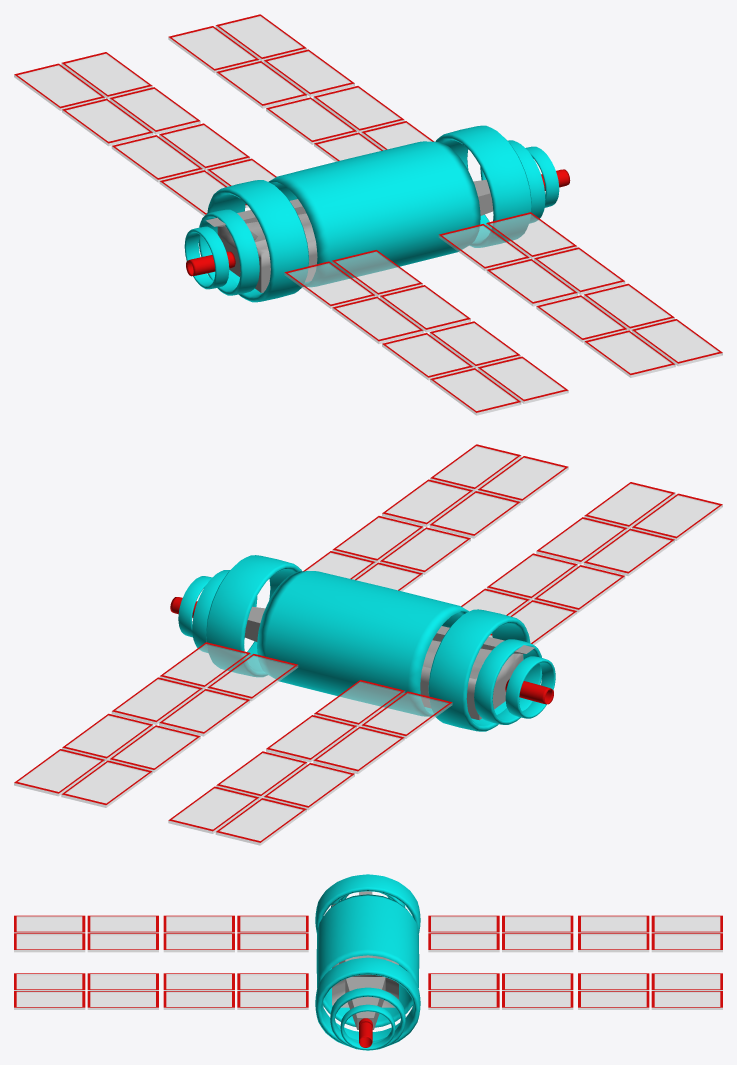
File: Spaceship1_Combined.fbx
3 renders of one model, top to bottom at view 1: azimuth 30°, elevation 25°; view 2: azimuth 150°, elevation 25°; view 3: azimuth 270°, elevation 25°, orthographic. The views are drawn at different scales.
Parts seen in each view (by area): view 1: Wing1_transform1; view 2: Wing1_transform1; view 3: Wing1_transform1.
Boxes of the visible parts, bbox=[...] form: Wing1_transform1: bbox=[14, 14, 722, 415]; Wing1_transform1: bbox=[14, 444, 722, 845]; Wing1_transform1: bbox=[14, 874, 722, 1050].
Size of the model in its own units: 19.58 by 5.19 by 41.72.
